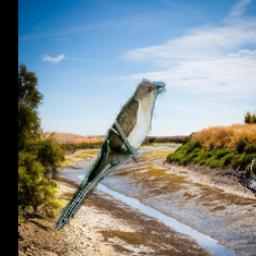Crow: (230, 159, 256, 204)
Cuckoo: (54, 80, 168, 235)
